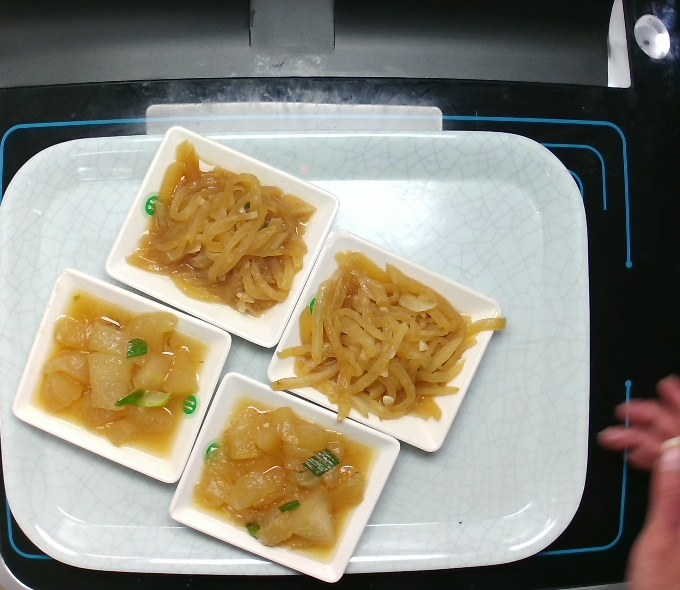wcq-DongGua: (204, 407, 349, 559), (53, 306, 198, 458)
wcq-LuoBoSi: (140, 141, 314, 314), (298, 252, 472, 425)
